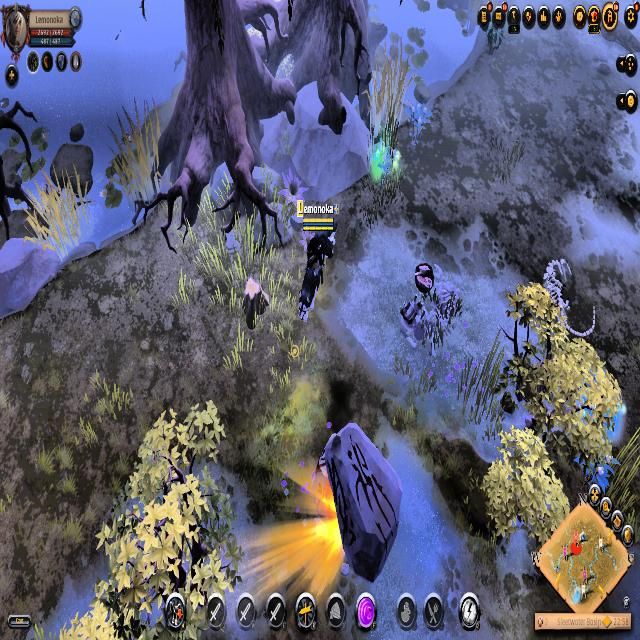fiber tier 4: (405, 99, 432, 146)
